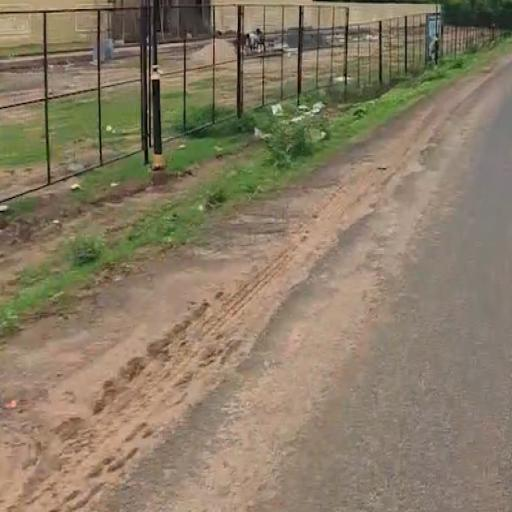edge_damage: (84, 108, 479, 497)
